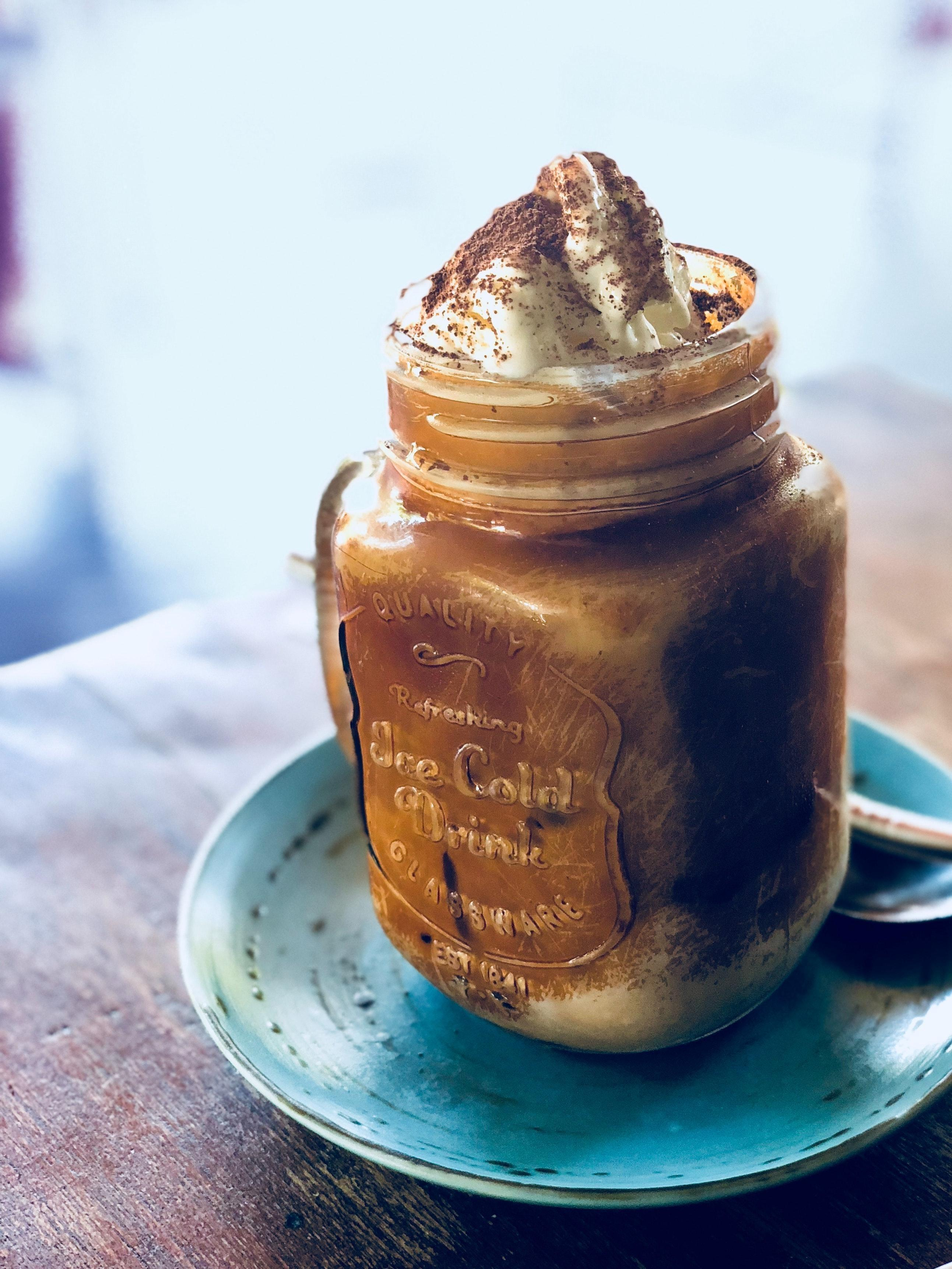glass-mug: (308, 221, 853, 1066)
